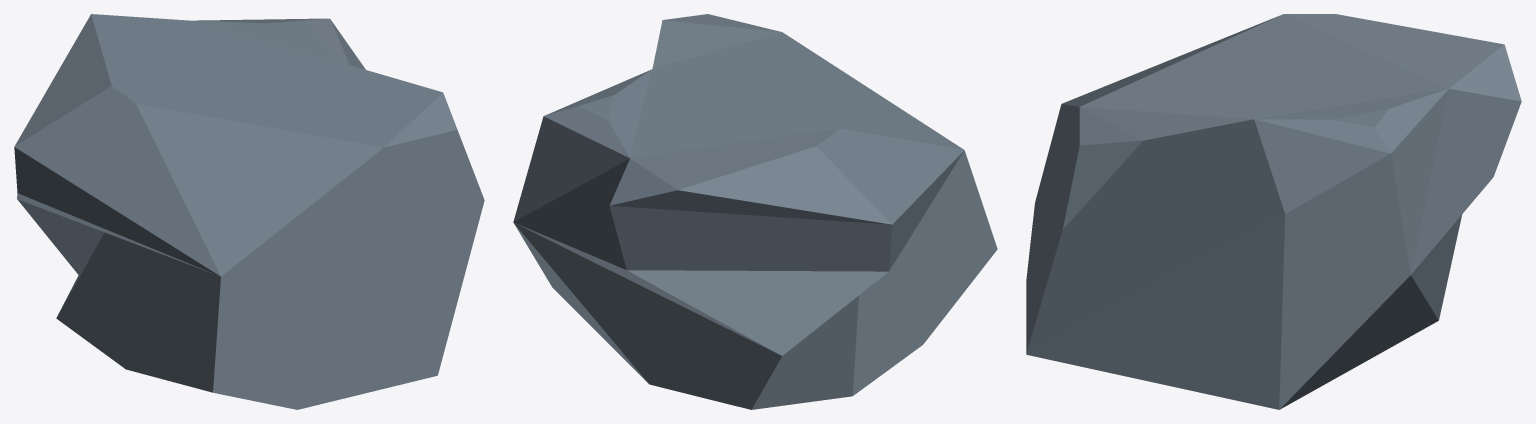
File: rock.fbx
3 views of the same model, side by side, from view 1: azimuth 30°, elevation 25°; view 2: azimuth 150°, elevation 25°; view 3: azimuth 270°, elevation 25° (orthographic). The views are drawn at different scales.
Parts seen in each view (by area): view 1: Rock; view 2: Rock; view 3: Rock.
Part boxes in pixels (<box>): Rock: <box>14,14,484,409</box>; Rock: <box>513,14,997,409</box>; Rock: <box>1026,14,1521,409</box>.
Bounding box in the file's own units: 112 × 65.63 × 120.
